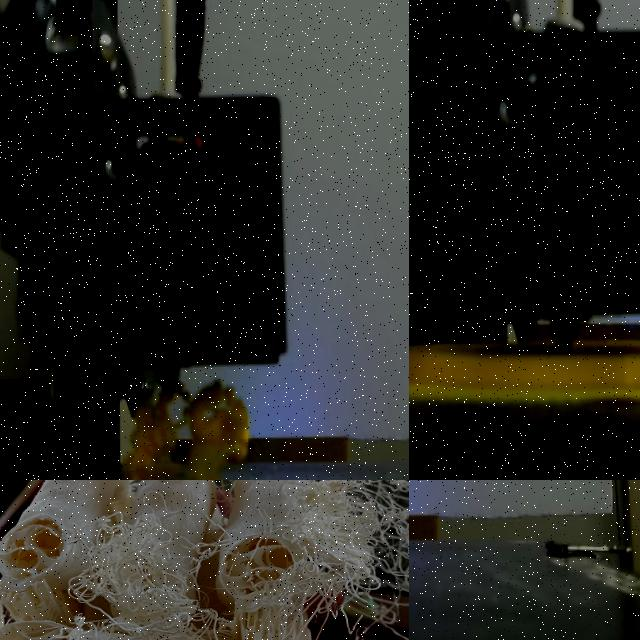spaghetti: (1, 480, 260, 640), (252, 480, 409, 640), (125, 382, 248, 480)
